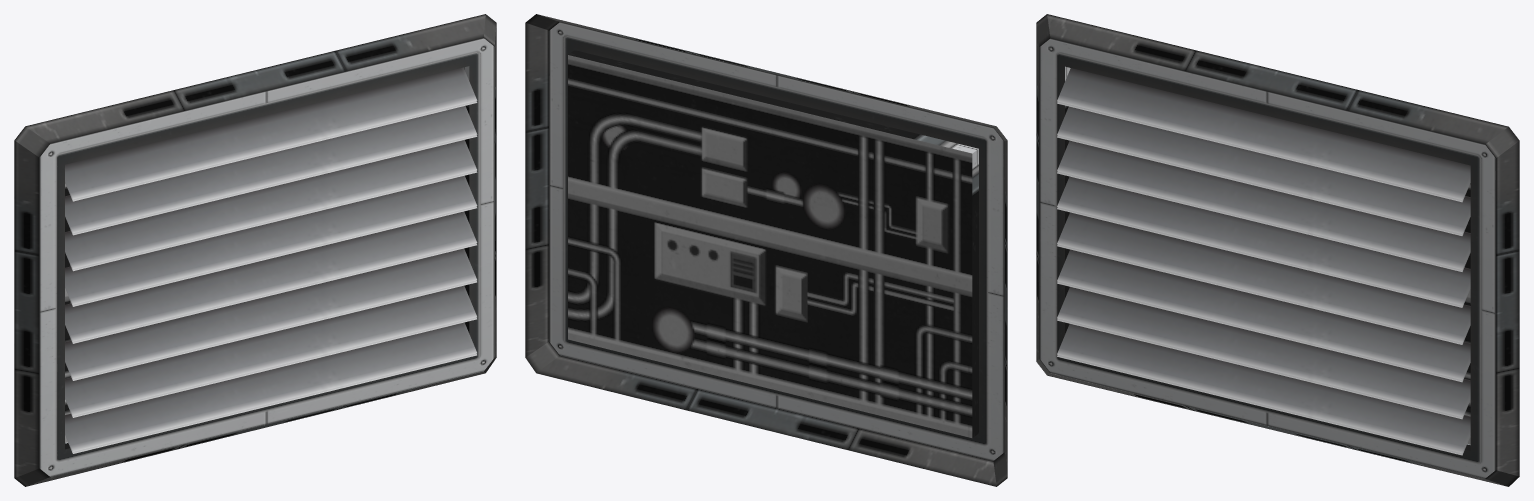
The model's file is Air_Grid_01.FBX.
3 views of the same model, side by side, from view 1: azimuth 30°, elevation 25°; view 2: azimuth 150°, elevation 25°; view 3: azimuth 330°, elevation 25° (orthographic).
Parts seen in each view (by area): view 1: Air_Grid_01; view 2: Air_Grid_01; view 3: Air_Grid_01.
Boxes of the visible parts, box(x1,y1,x2,y2) form: Air_Grid_01: box(14, 14, 496, 486); Air_Grid_01: box(525, 14, 1007, 486); Air_Grid_01: box(1036, 14, 1519, 486).
Bounding box in the file's own units: 45.63 × 32.61 × 3.11.
